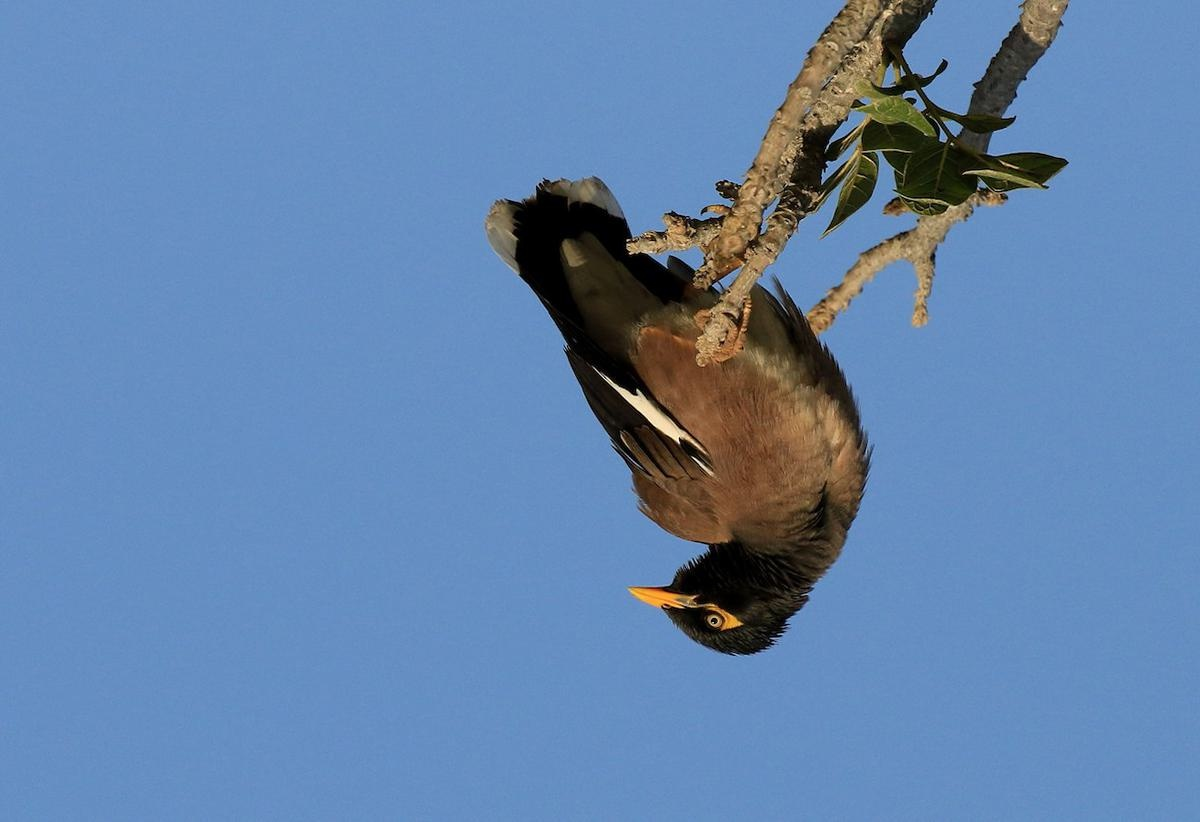myna: (468, 129, 888, 666)
